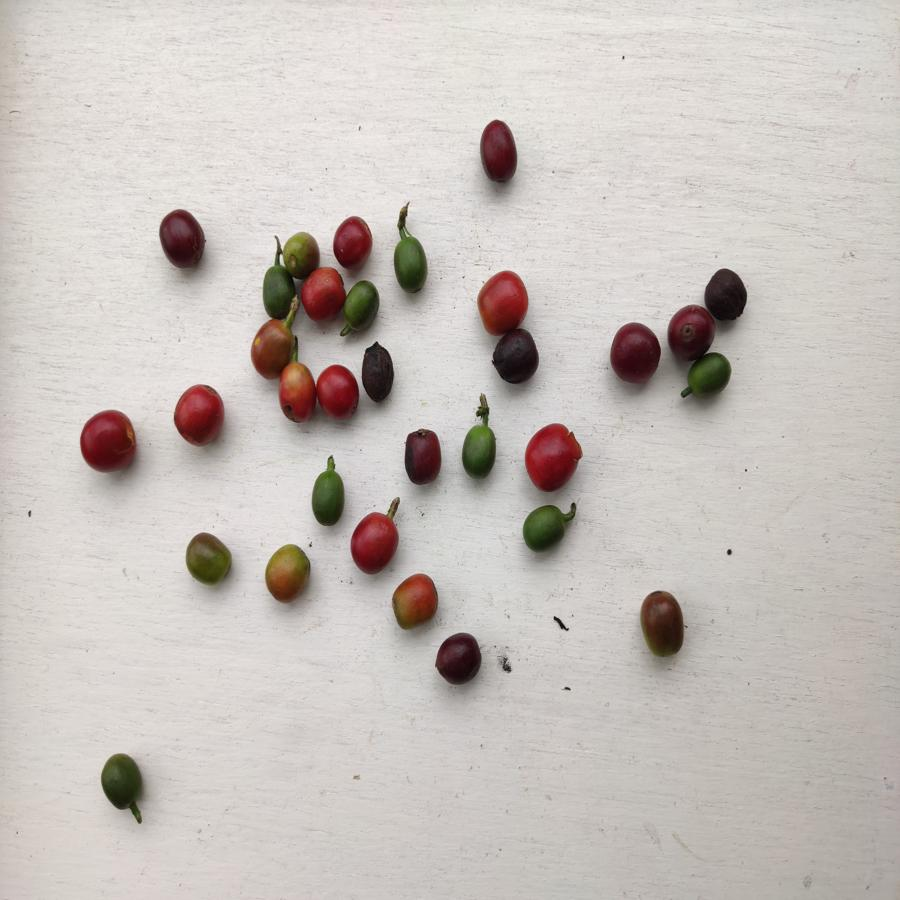Inmaduro: (98, 752, 144, 812), (392, 234, 433, 297), (460, 422, 500, 483), (685, 354, 737, 400), (309, 469, 348, 528), (521, 505, 567, 552), (341, 280, 382, 332), (259, 263, 298, 315)
Maduro: (77, 407, 143, 474), (523, 421, 583, 492), (170, 383, 226, 447), (350, 511, 399, 576), (477, 270, 528, 332), (314, 363, 364, 419), (275, 362, 315, 424), (301, 264, 341, 321)
Pinton: (634, 587, 686, 661), (261, 544, 314, 603), (390, 573, 440, 632), (185, 532, 232, 587), (250, 321, 288, 381), (280, 232, 321, 270)
Sobremaduro: (610, 319, 661, 385), (432, 632, 488, 691), (489, 329, 544, 387), (474, 118, 522, 182), (160, 210, 208, 270), (664, 304, 719, 355), (704, 267, 749, 320), (403, 429, 445, 485), (359, 342, 396, 404), (330, 217, 372, 266)
